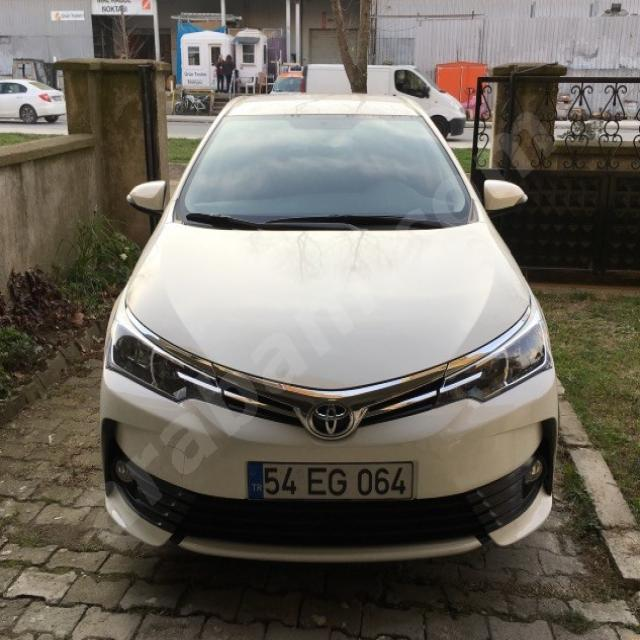license_plate: (246, 461, 414, 501)
